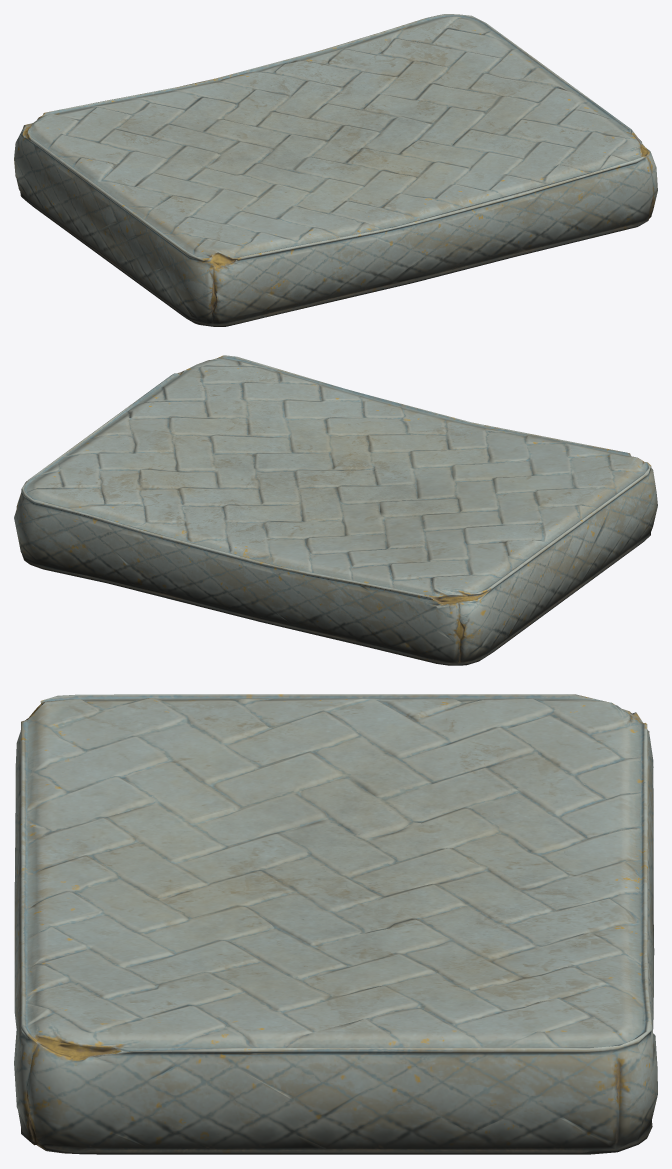
The model's file is SM_Old_Mattress_01.fbx.
3 views of the same model, one above another, from view 1: azimuth 30°, elevation 25°; view 2: azimuth 150°, elevation 25°; view 3: azimuth 270°, elevation 25° (orthographic). The views are drawn at different scales.
Parts seen in each view (by area): view 1: SM_Old_Mattress_01_LOD0; view 2: SM_Old_Mattress_01_LOD0; view 3: SM_Old_Mattress_01_LOD0.
Boxes of the visible parts, box(x1,y1,x2,y2) form: SM_Old_Mattress_01_LOD0: box(14, 14, 657, 326); SM_Old_Mattress_01_LOD0: box(14, 355, 657, 665); SM_Old_Mattress_01_LOD0: box(14, 694, 657, 1154).
Bounding box in the file's own units: 204 × 153 × 31.42.
